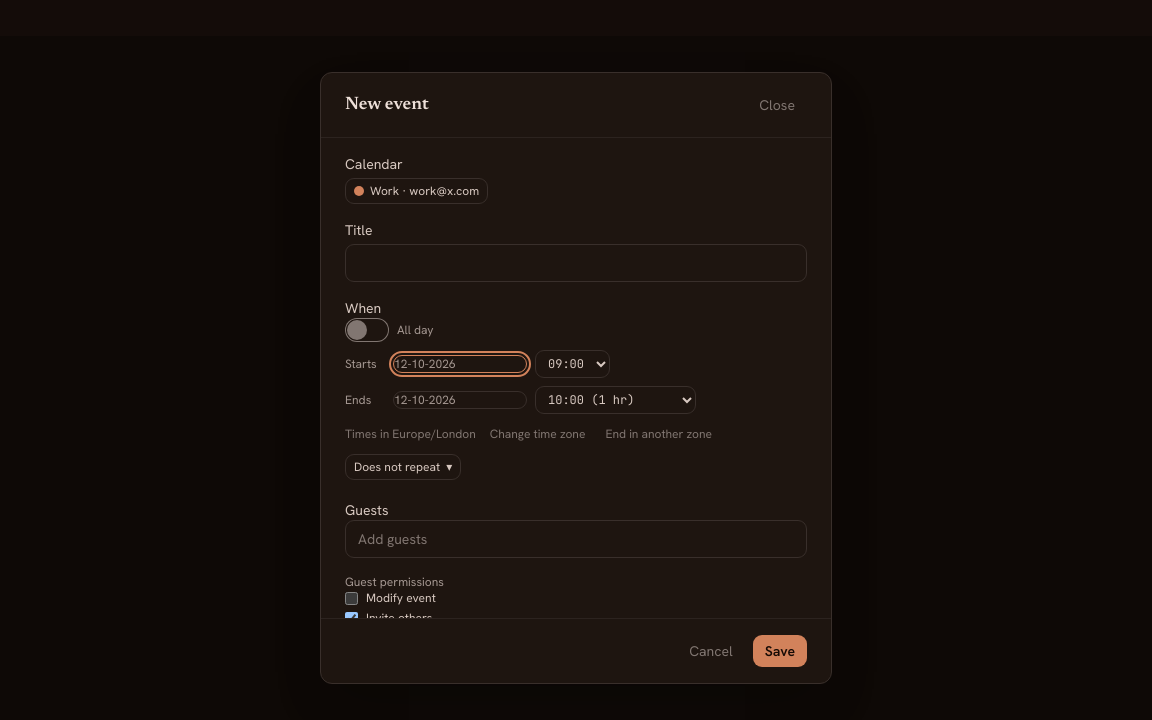
NewEventEditor › the notice shows for a start outside the mirror and for a hidden calendar
Expected: the text "outside the months PM syncs" is not shown
Replace the text in the dropdown named "Start date" with "12-12-2027". click: (460, 364)
box: [393, 355, 527, 373]
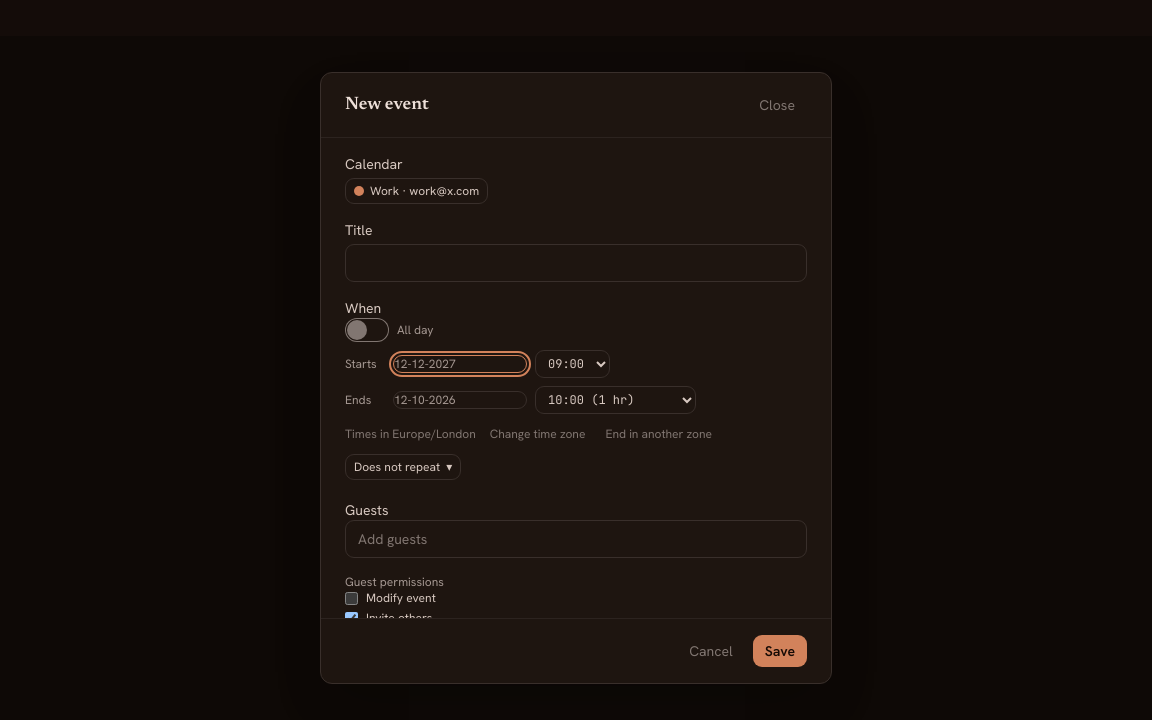
Leave the dropdown named "Start date", box [393, 355, 527, 373]
(page scrolled)
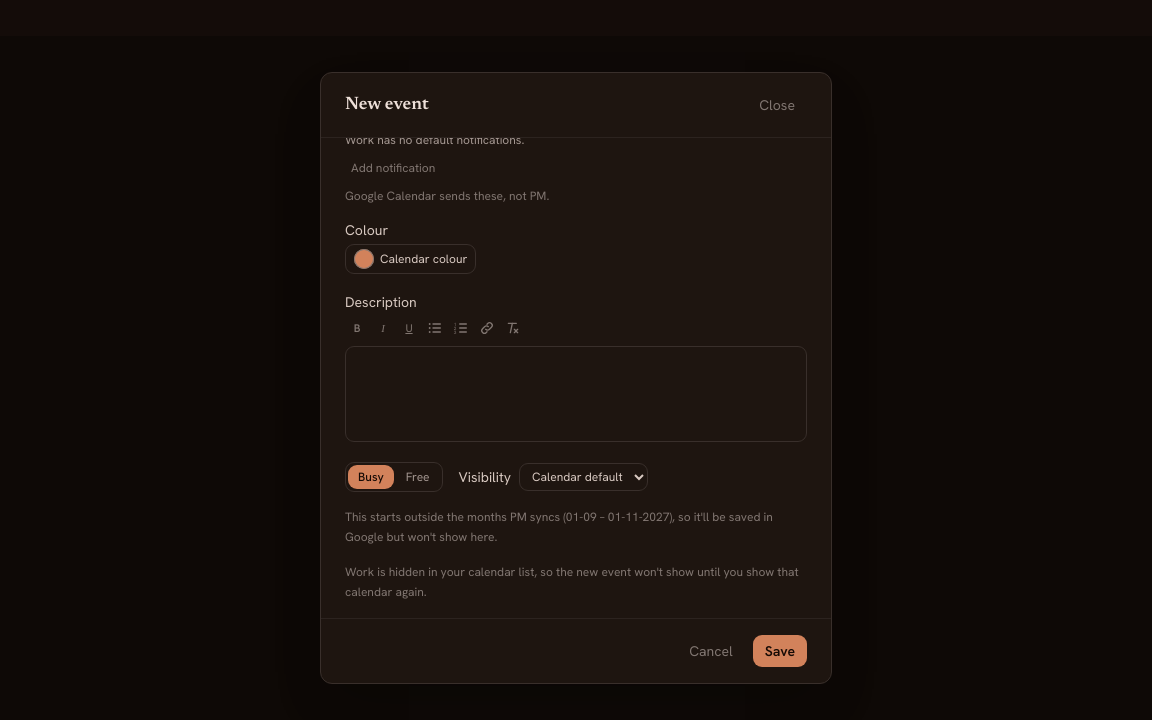
Expected: the text "This starts outside the months PM syncs (" is shown, [345, 509, 773, 544]
